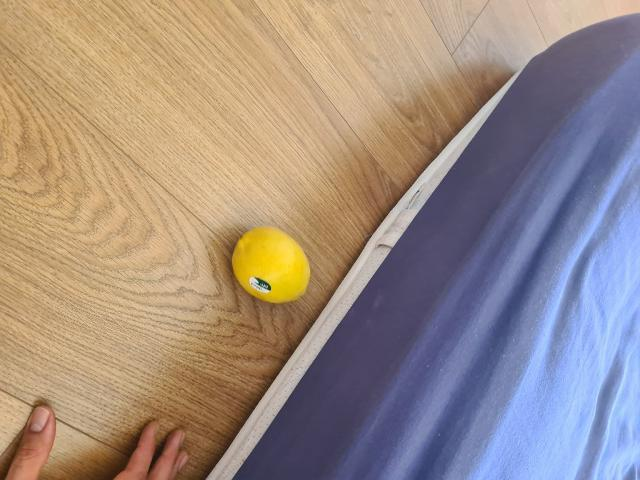lemon: (228, 221, 308, 304)
